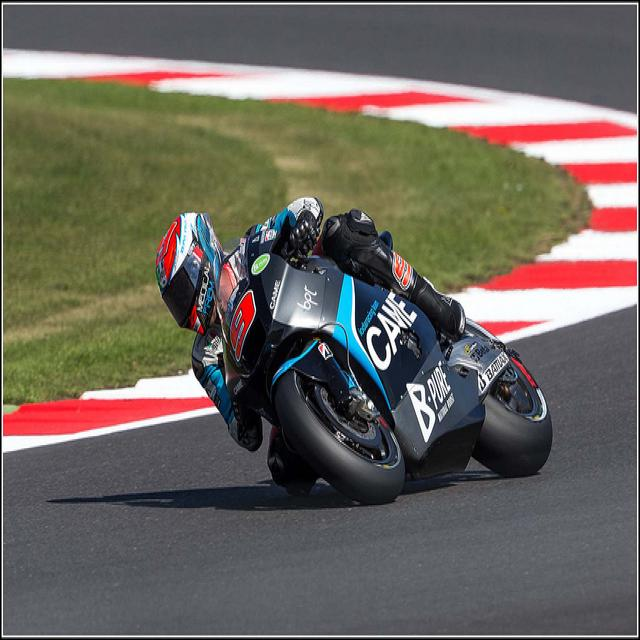motor: (217, 229, 552, 503)
